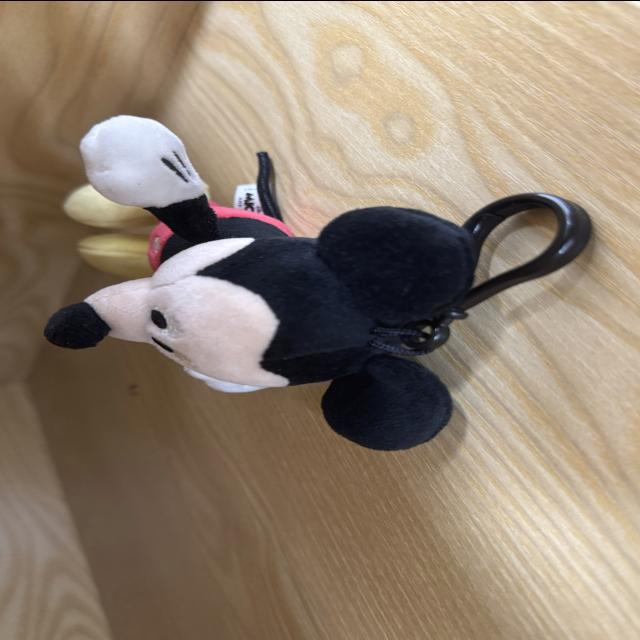mickey: (45, 115, 474, 449)
